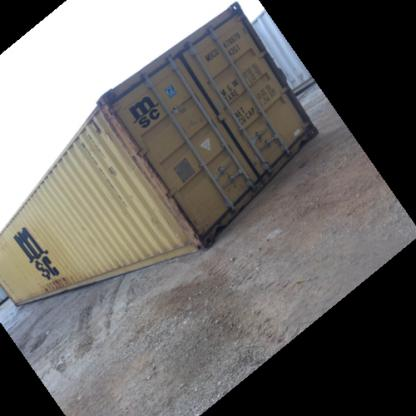Damage: (143, 156, 204, 243), (97, 98, 135, 144), (36, 270, 76, 290), (272, 90, 288, 108), (104, 162, 119, 175)
